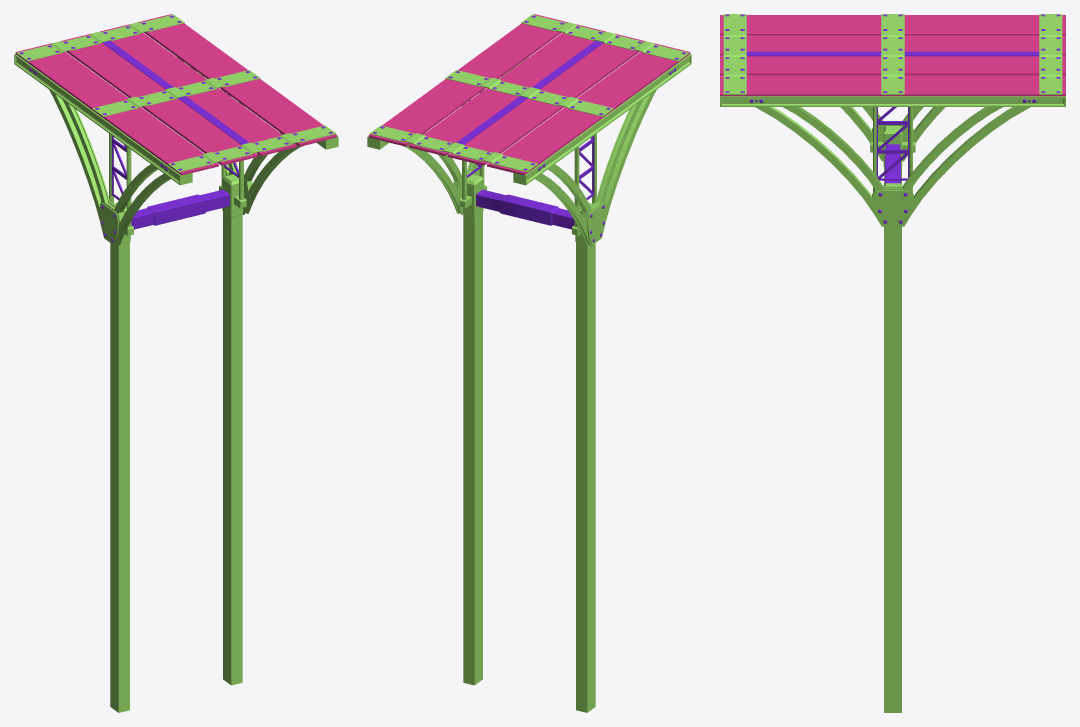
Rendered from Floor_01_Bridge_I_2x1_01_a.fbx.
The picture shows the model from 3 angles, left to right: view 1: azimuth 30°, elevation 25°; view 2: azimuth 150°, elevation 25°; view 3: azimuth 270°, elevation 25°; orthographic projection. The views are drawn at different scales.
Parts seen in each view (by area): view 1: Cylinder; view 2: Cylinder; view 3: Cylinder.
Part boxes in pixels (box(x1,y1,x2,y2)): Cylinder: box(14, 14, 338, 712); Cylinder: box(367, 14, 691, 712); Cylinder: box(720, 14, 1065, 712).
Bounding box in the file's own units: 110 × 401 × 200.
